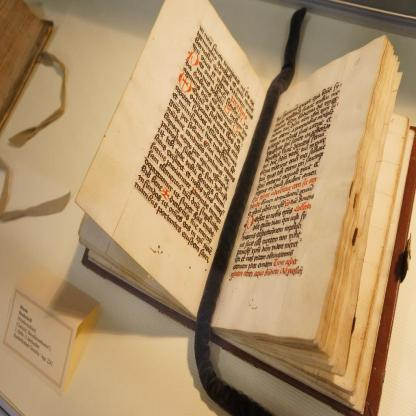book: (69, 10, 403, 401)
